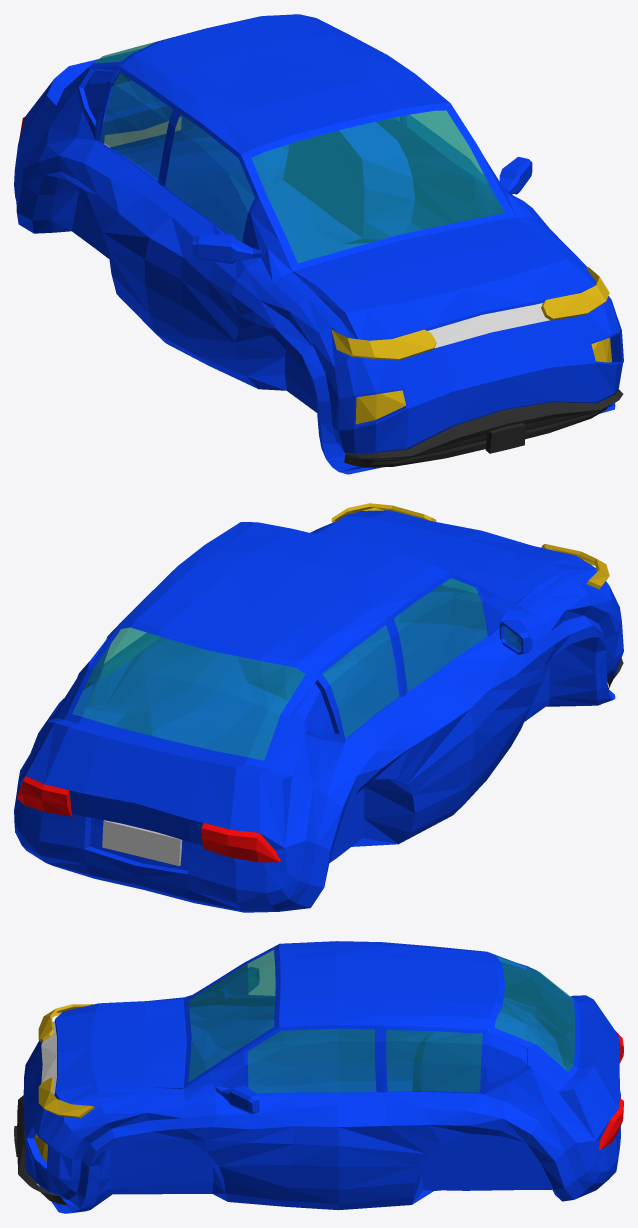
The model's file is SM_car_economy_body.FBX.
The picture shows the model from 3 angles, top to bottom: view 1: azimuth 30°, elevation 25°; view 2: azimuth 150°, elevation 25°; view 3: azimuth 270°, elevation 25°; orthographic projection. The views are drawn at different scales.
Visible parts, largest first — view 1: car_body; view 2: car_body; view 3: car_body.
Part boxes in pixels (x1,y1,x2,y2): car_body: [14, 14, 623, 474]; car_body: [14, 503, 623, 912]; car_body: [14, 941, 623, 1213].
Bounding box in the file's own units: 194 × 122 × 369.
